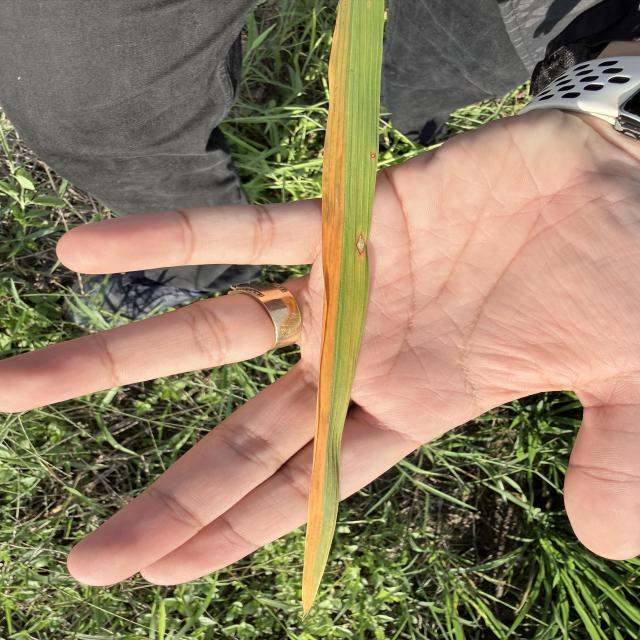Chay bia la: (299, 0, 353, 620)
